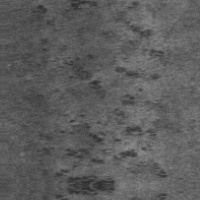rolled-in_scale: (56, 94, 173, 184), (35, 0, 101, 90), (114, 0, 169, 80)
